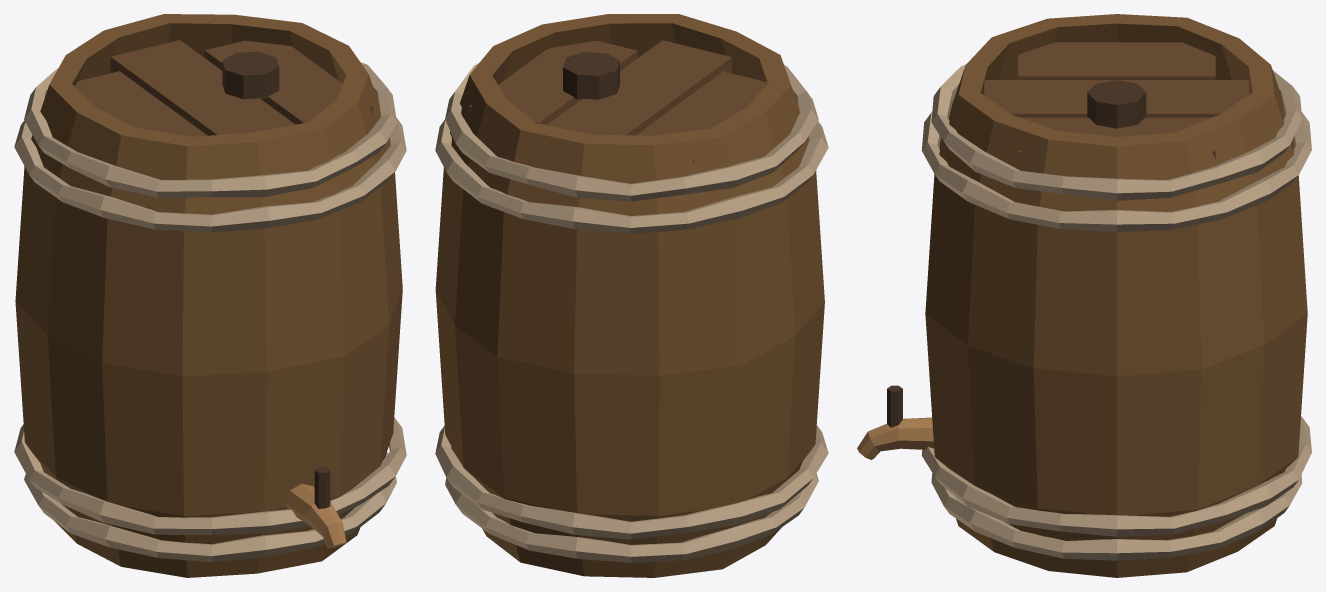
Rendered from mdvl_food_cask_01.glb.
The picture shows the model from 3 angles, left to right: view 1: azimuth 30°, elevation 25°; view 2: azimuth 150°, elevation 25°; view 3: azimuth 270°, elevation 25°; orthographic projection.
Visible parts, largest first — view 1: mdvl_food_cask_01; view 2: mdvl_food_cask_01; view 3: mdvl_food_cask_01.
Boxes of the visible parts, bbox=[...] form: mdvl_food_cask_01: bbox=[14, 14, 406, 577]; mdvl_food_cask_01: bbox=[435, 14, 828, 577]; mdvl_food_cask_01: bbox=[857, 14, 1311, 577].
Size of the model in its own units: 0.3452 by 0.426 by 0.4015.
Materials: 1 (1 with a texture image).
